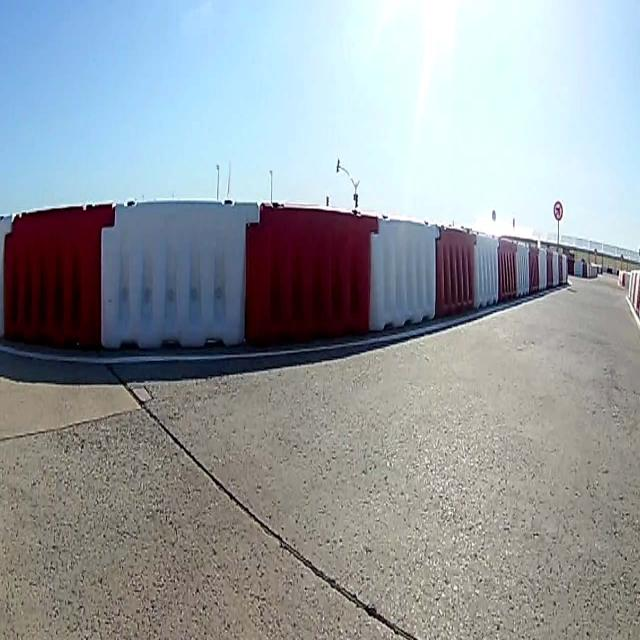soladonulmez: (552, 200, 564, 219)
